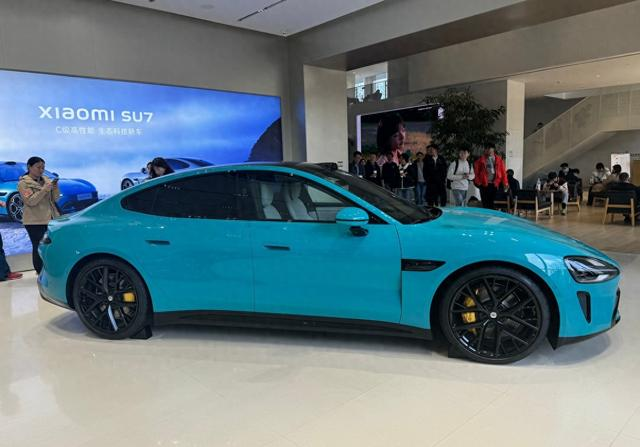su7: (35, 160, 623, 361)
